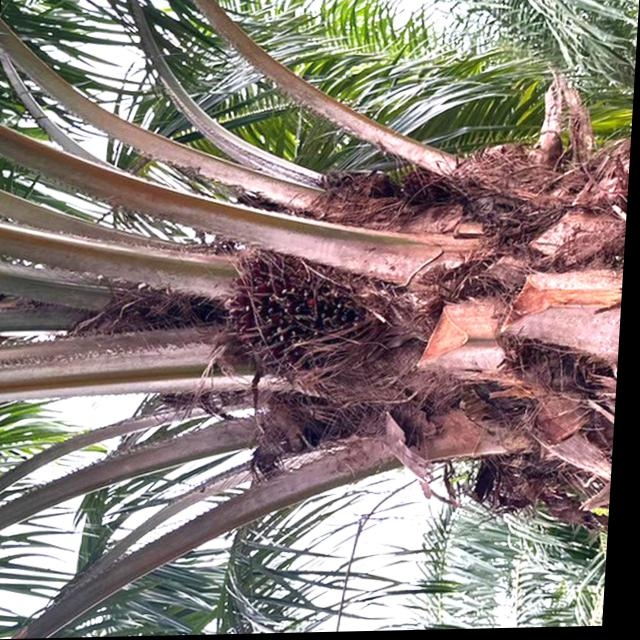ripe: (216, 249, 385, 387)
